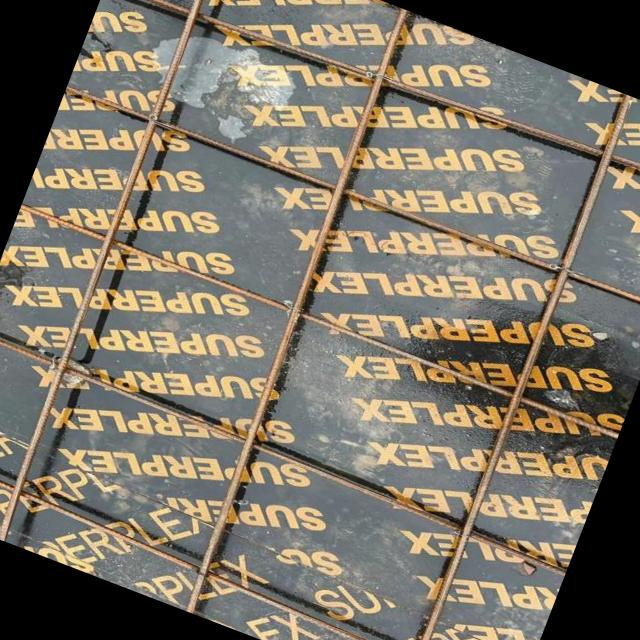ribbed bar: (170, 7, 424, 614), (19, 203, 618, 440), (0, 328, 570, 576), (65, 76, 640, 318), (391, 92, 640, 640), (0, 0, 233, 540), (105, 0, 640, 215), (0, 449, 524, 640)
